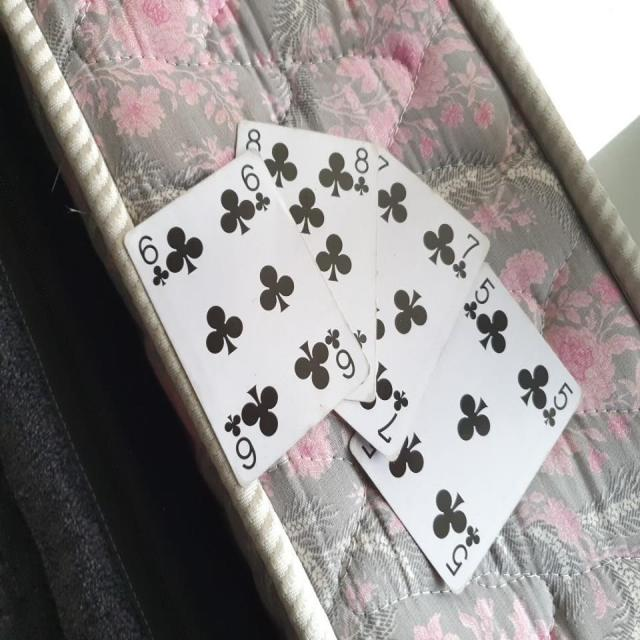5 Trefoils: (345, 264, 584, 599)
6 Trefoils: (123, 147, 370, 489)
7 Trefoils: (330, 145, 492, 464)
8 Trefoils: (235, 118, 379, 404)
